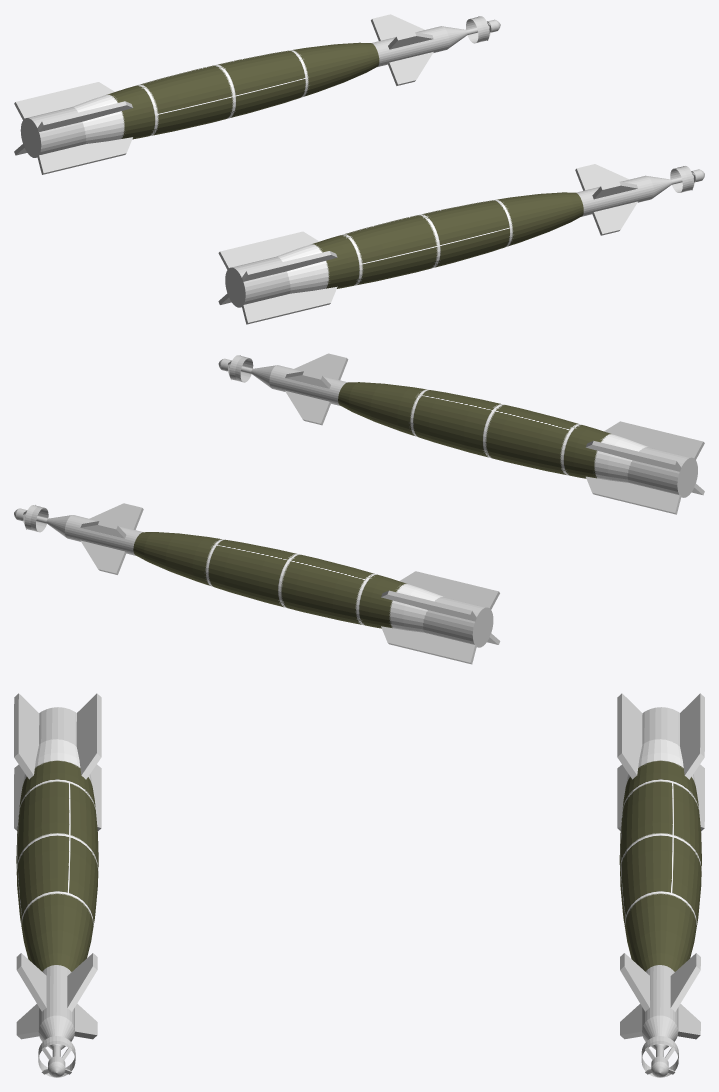
Rendered from a10cgbu1048.glb.
The picture shows the model from 3 angles, top to bottom: view 1: azimuth 30°, elevation 25°; view 2: azimuth 150°, elevation 25°; view 3: azimuth 270°, elevation 25°; orthographic projection. The views are drawn at different scales.
Visible parts, largest first — view 1: 球.004, 球.005; view 2: 球.004, 球.005; view 3: 球.004, 球.005.
Part boxes in pixels (x1,y1,x2,y2): 球.004: (218, 164, 704, 324); 球.005: (14, 14, 500, 174); 球.004: (218, 353, 704, 514); 球.005: (14, 503, 500, 664); 球.004: (14, 693, 101, 1077); 球.005: (617, 693, 704, 1077).
Size of the model in its own units: 4.24 by 0.4634 by 3.65.
Materials: 1 (1 with a texture image).
